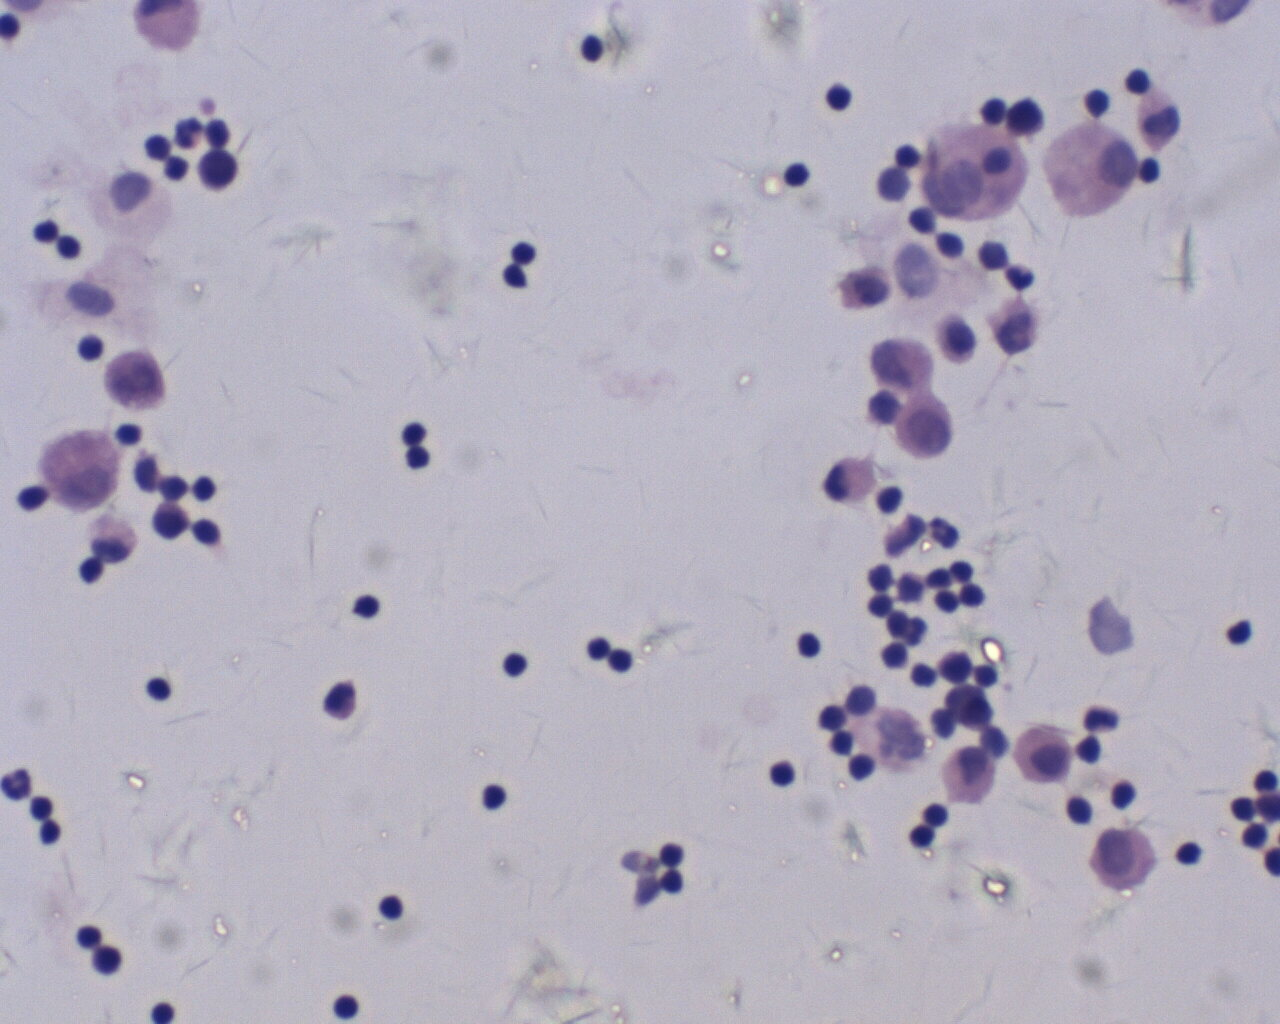ab: (36, 428, 124, 517), (894, 390, 961, 462), (1087, 827, 1157, 893)
histo: (1040, 117, 1135, 222)
lymph: (506, 234, 545, 270), (328, 990, 368, 1023), (906, 822, 944, 854), (191, 470, 222, 506), (1173, 835, 1202, 872), (480, 781, 512, 812), (782, 159, 814, 189), (793, 631, 827, 660), (821, 82, 853, 112), (350, 589, 380, 620), (769, 758, 798, 787), (502, 652, 532, 680), (144, 674, 172, 703), (376, 893, 405, 921), (578, 33, 605, 61)
meso: (1015, 725, 1073, 787)
neutro: (1, 764, 38, 809)
